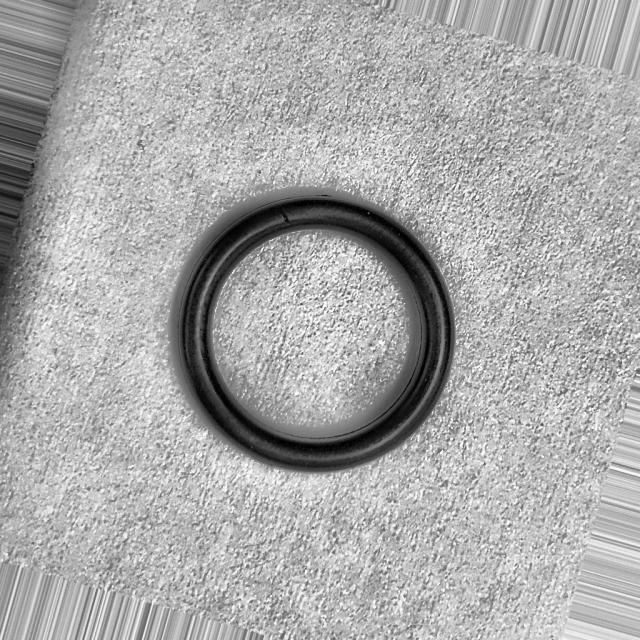切割缺陷: (271, 202, 296, 231)
